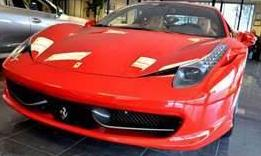front_view: (8, 28, 232, 146)
headlight: (178, 39, 223, 96)
